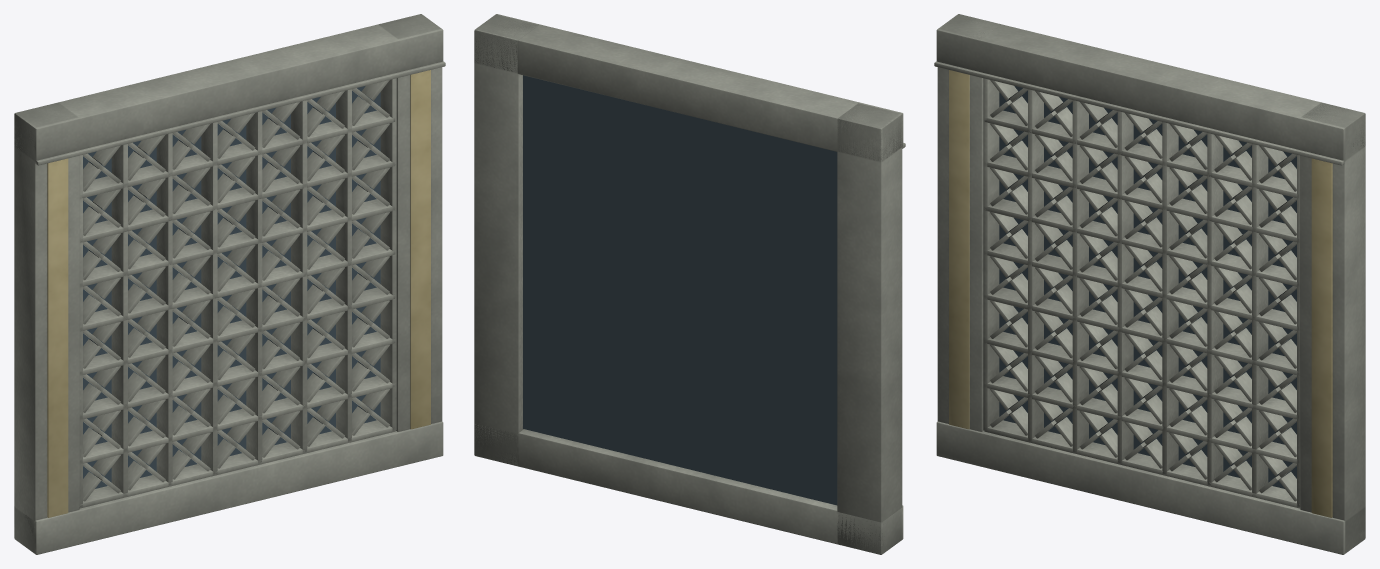
File: CTCC_ENV_StairwellBreezeBay_1987.fbx
The picture shows the model from 3 angles, left to right: view 1: azimuth 30°, elevation 25°; view 2: azimuth 150°, elevation 25°; view 3: azimuth 330°, elevation 25°; orthographic projection.
Parts seen in each view (by area): view 1: CTCC_ENV_StairwellBreezeBay_1987_LOD0; view 2: CTCC_ENV_StairwellBreezeBay_1987_LOD0; view 3: CTCC_ENV_StairwellBreezeBay_1987_LOD0.
Boxes of the visible parts, x1,y1,x2,y2 form: CTCC_ENV_StairwellBreezeBay_1987_LOD0: (14,14,445,554); CTCC_ENV_StairwellBreezeBay_1987_LOD0: (474,14,905,554); CTCC_ENV_StairwellBreezeBay_1987_LOD0: (934,14,1365,554).
Size of what is drawn, in the model's own units: 4 by 4 by 0.41.
